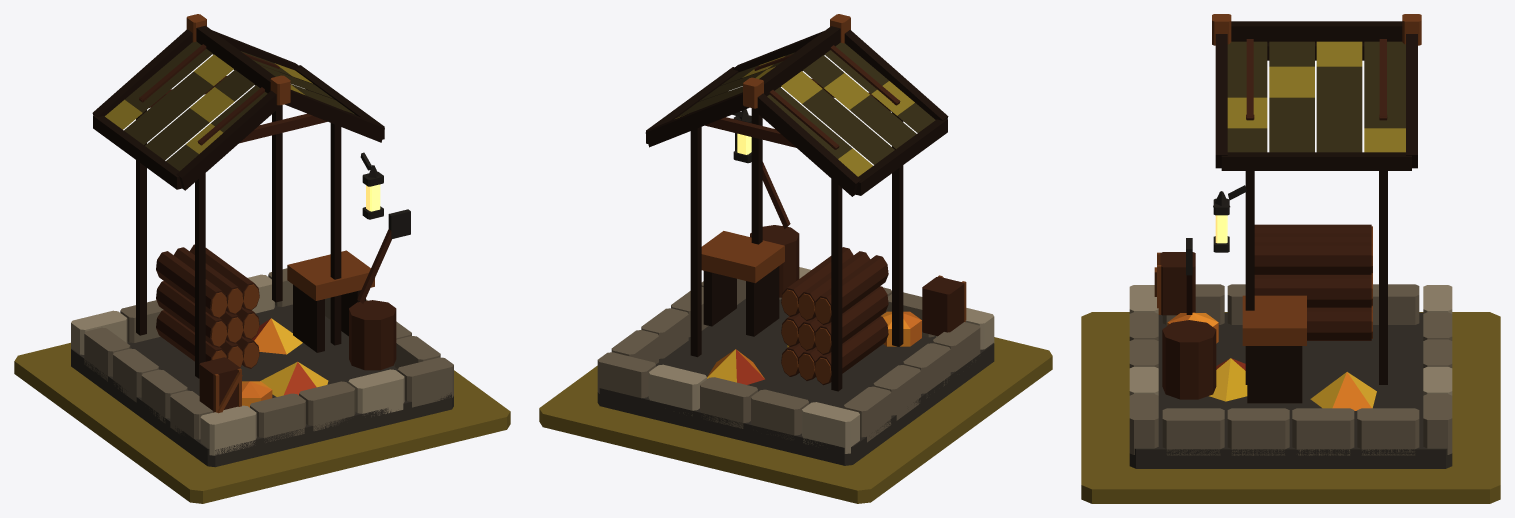
The model's file is timber_yard_t6.glb.
The picture shows the model from 3 angles, left to right: view 1: azimuth 30°, elevation 25°; view 2: azimuth 150°, elevation 25°; view 3: azimuth 270°, elevation 25°; orthographic projection. The views are drawn at different scales.
Parts seen in each view (by area): view 1: MMR | timber_yard | T06 Architecture.001, MMR | timber_yard | Tier 06 Ground.001, MMR | timber_yard | T06 Autumn Dressing.001; view 2: MMR | timber_yard | T06 Architecture.001, MMR | timber_yard | Tier 06 Ground.001, MMR | timber_yard | T06 Autumn Dressing.001; view 3: MMR | timber_yard | T06 Architecture.001, MMR | timber_yard | Tier 06 Ground.001, MMR | timber_yard | T06 Autumn Dressing.001.
Boxes of the visible parts, <box> form: MMR | timber_yard | T06 Architecture.001: <box>71,14,453,467</box>; MMR | timber_yard | Tier 06 Ground.001: <box>14,342,510,503</box>; MMR | timber_yard | T06 Autumn Dressing.001: <box>242,318,328,407</box>; MMR | timber_yard | T06 Architecture.001: <box>597,14,994,465</box>; MMR | timber_yard | Tier 06 Ground.001: <box>539,337,1052,503</box>; MMR | timber_yard | T06 Autumn Dressing.001: <box>707,311,921,384</box>; MMR | timber_yard | T06 Architecture.001: <box>1129,14,1452,468</box>; MMR | timber_yard | Tier 06 Ground.001: <box>1081,312,1500,503</box>; MMR | timber_yard | T06 Autumn Dressing.001: <box>1167,312,1376,410</box>.
Size of the model in its own units: 1.3 by 1.34 by 1.3.
2 materials, 1 textured.
